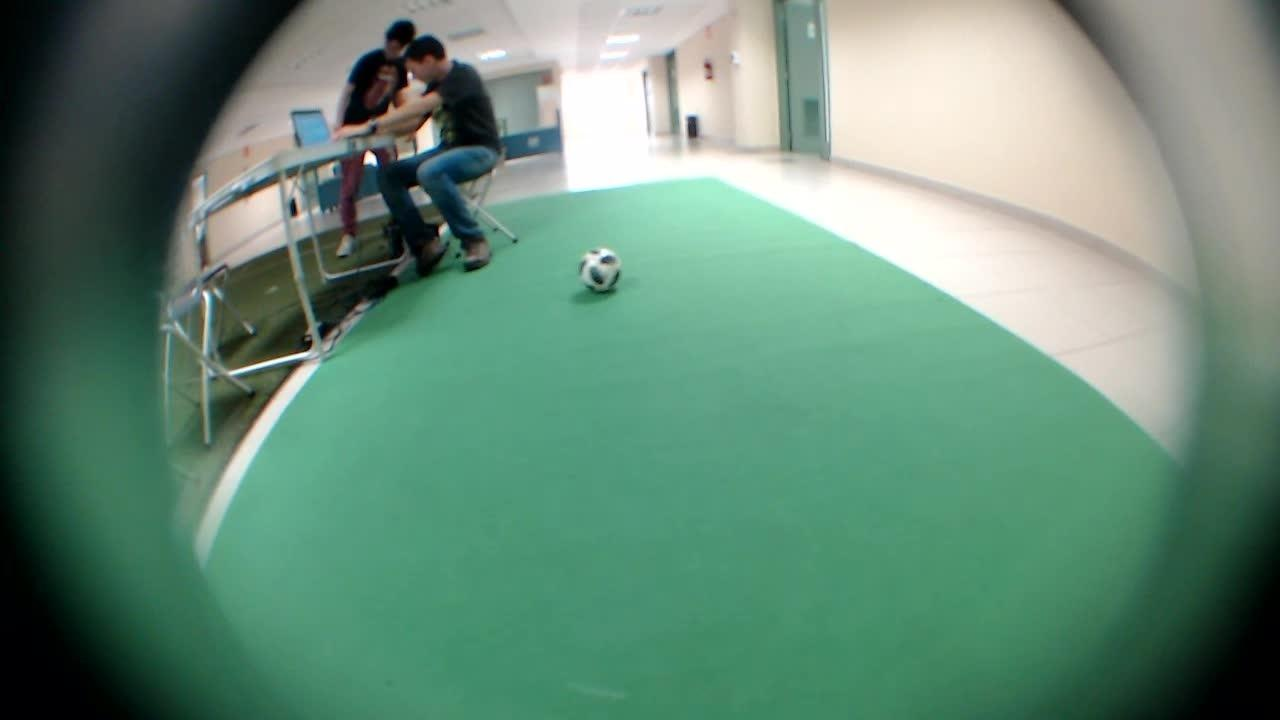ball: (567, 237, 632, 297)
